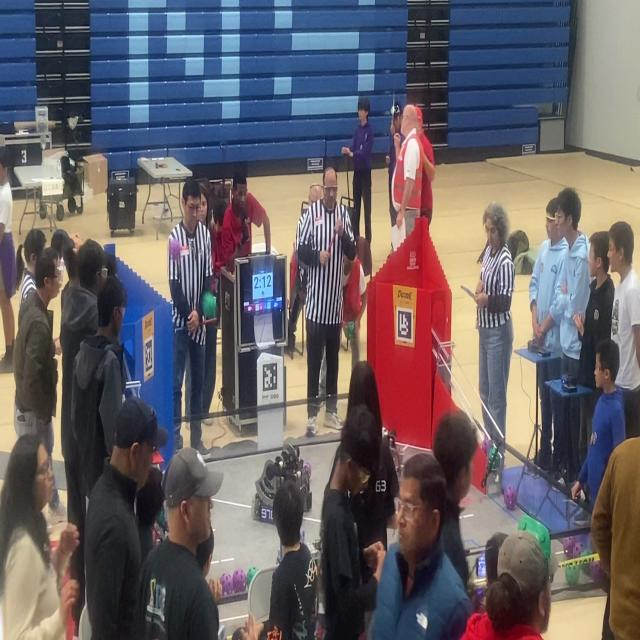artifact_green: (203, 292, 216, 319), (488, 445, 500, 472), (565, 565, 579, 586), (246, 567, 258, 588), (345, 322, 355, 340), (581, 563, 590, 575)
artifact_purple: (590, 562, 604, 587), (233, 569, 246, 593), (504, 486, 516, 510), (563, 537, 576, 559), (220, 574, 233, 596), (169, 238, 180, 259), (247, 567, 258, 587), (572, 540, 583, 558), (581, 561, 592, 575), (482, 436, 490, 455), (303, 462, 311, 478), (301, 529, 305, 543)
